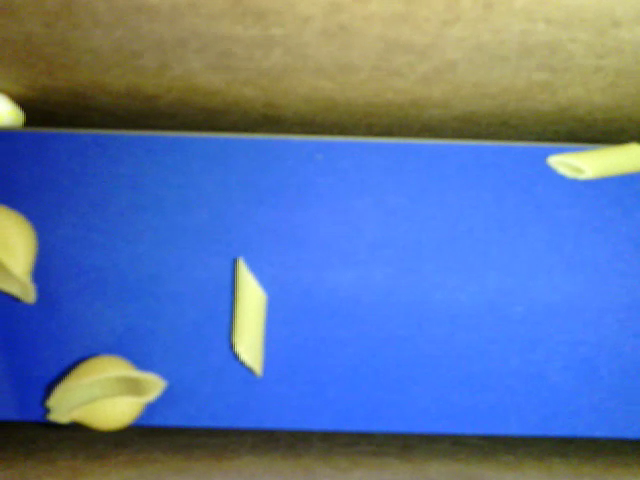penne: (232, 256, 267, 377), (545, 141, 639, 180)
shell: (41, 354, 168, 434), (1, 204, 39, 305)
